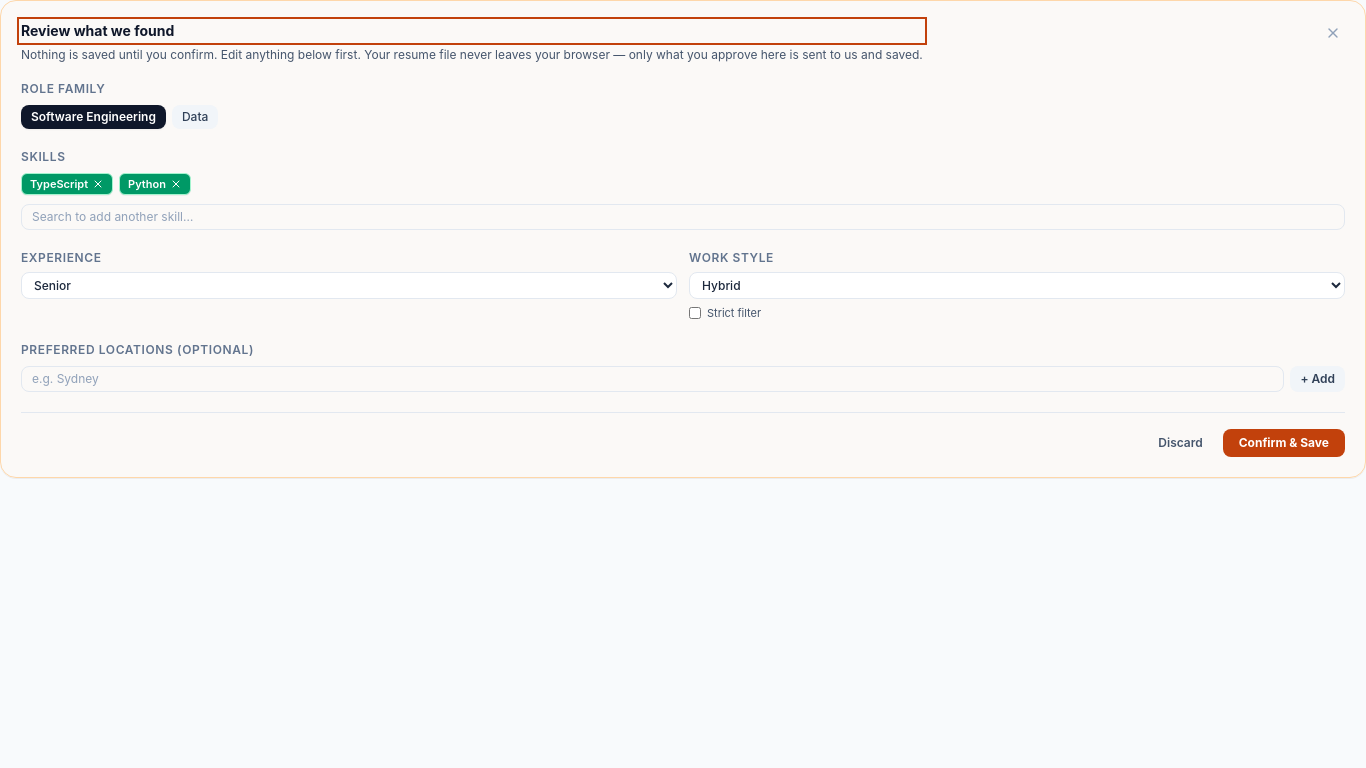
it: ResumeReviewPanel -- the confirmation gate › surfaces a save failure and does not report success
Click the button "Confirm & Save" at [1284, 442], box [1223,428,1345,456]
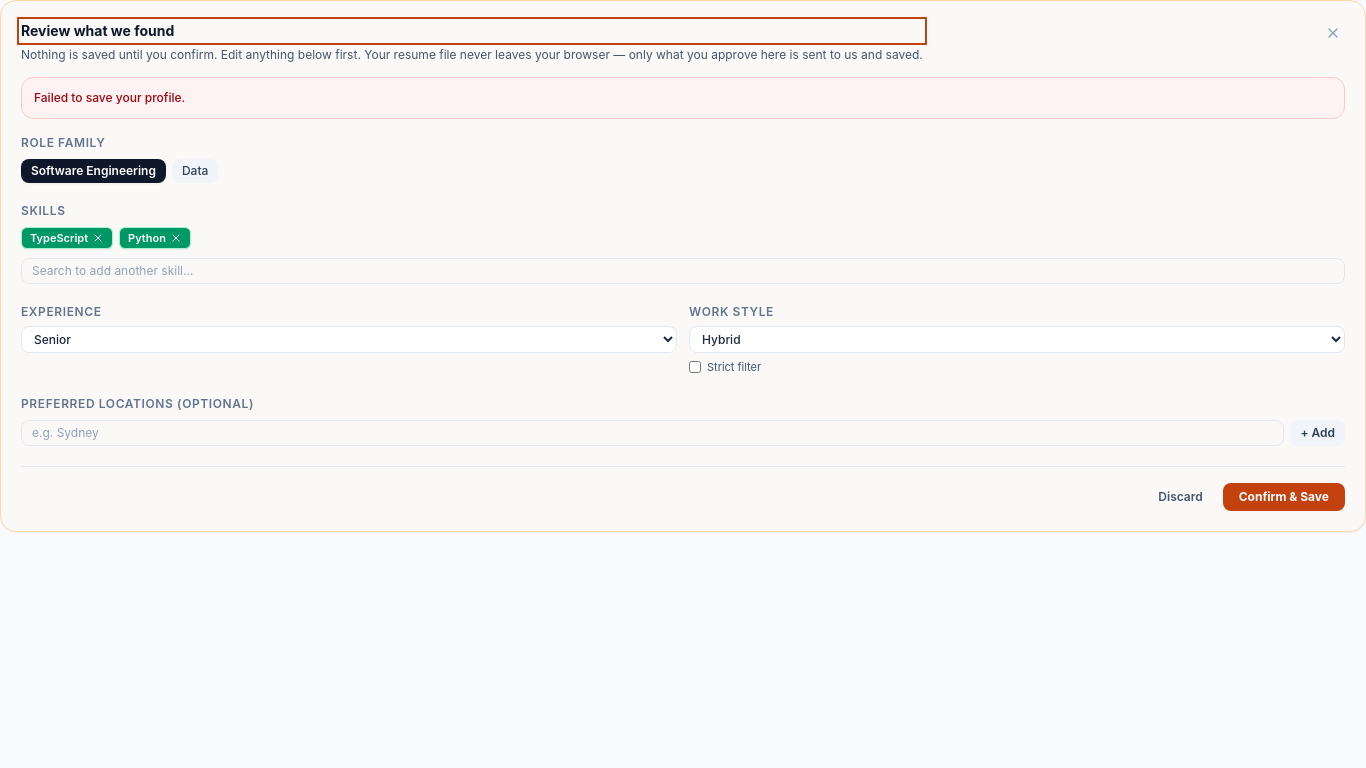
Check: the message "Failed to save your profile." is shown, box [21,76,1345,118]
